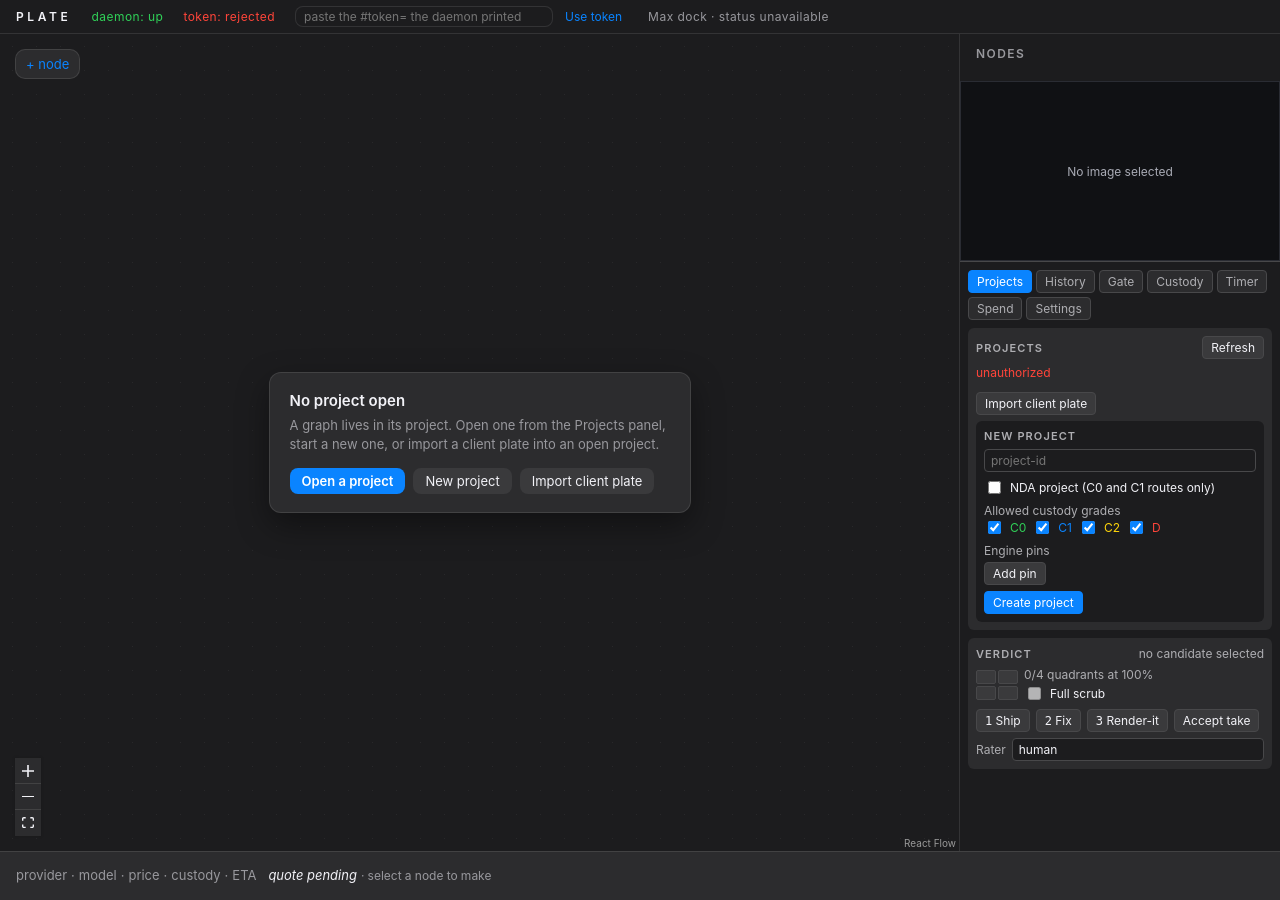
Scenario: the token state › a 401 shows token: rejected; pasting the daemon's line stores the token and the project reopens
Expected: the text with test id "status-token" reads "token: rejected", [183,9,275,24]
Type "PLATE daemon http://127.0.0.1:4610/#token=tok-good" into the password field with test id "token-input" at {"x": 424, "y": 16}, box [295,6,553,27]
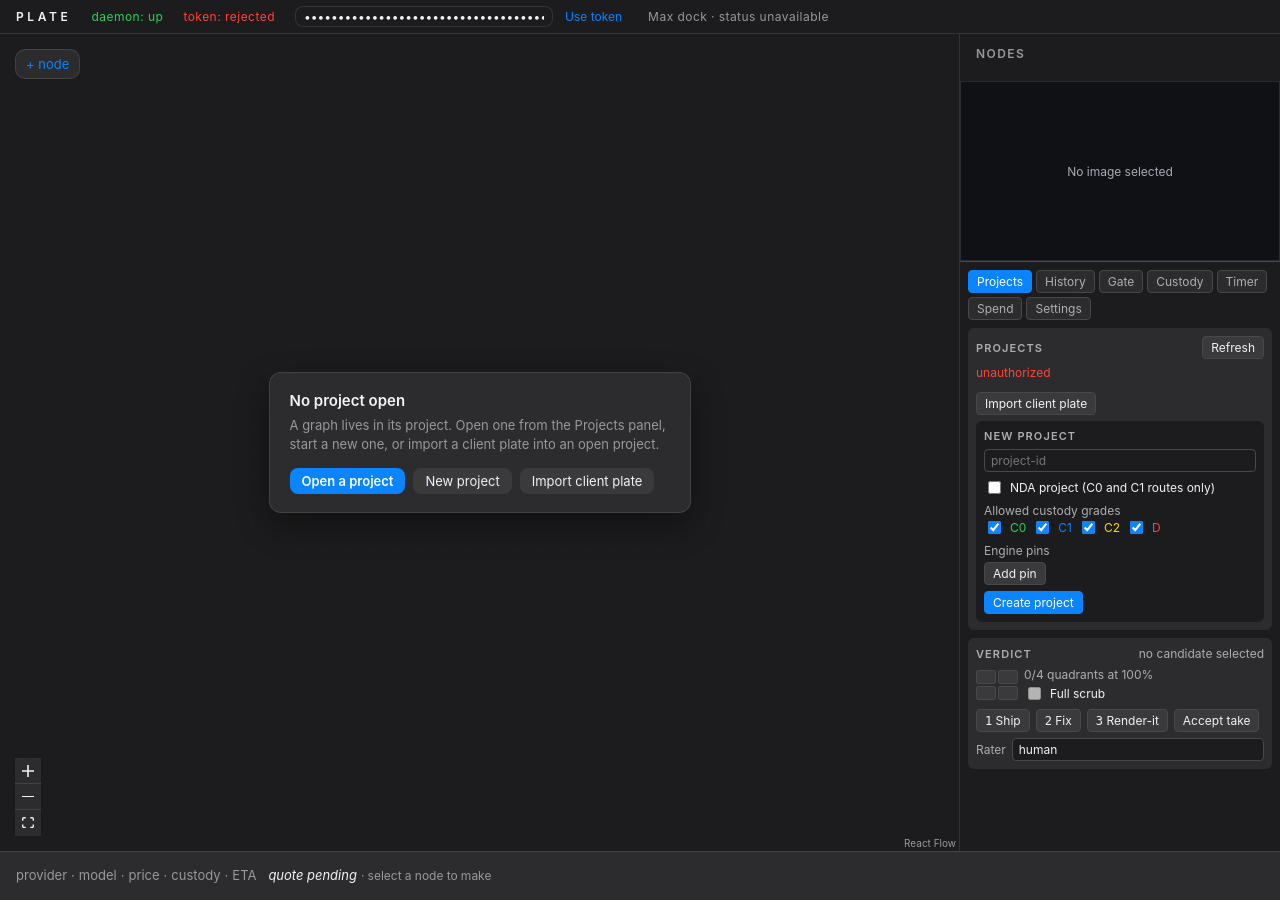
Click the button with test id "token-submit" at {"x": 594, "y": 16}, box [559,6,628,27]
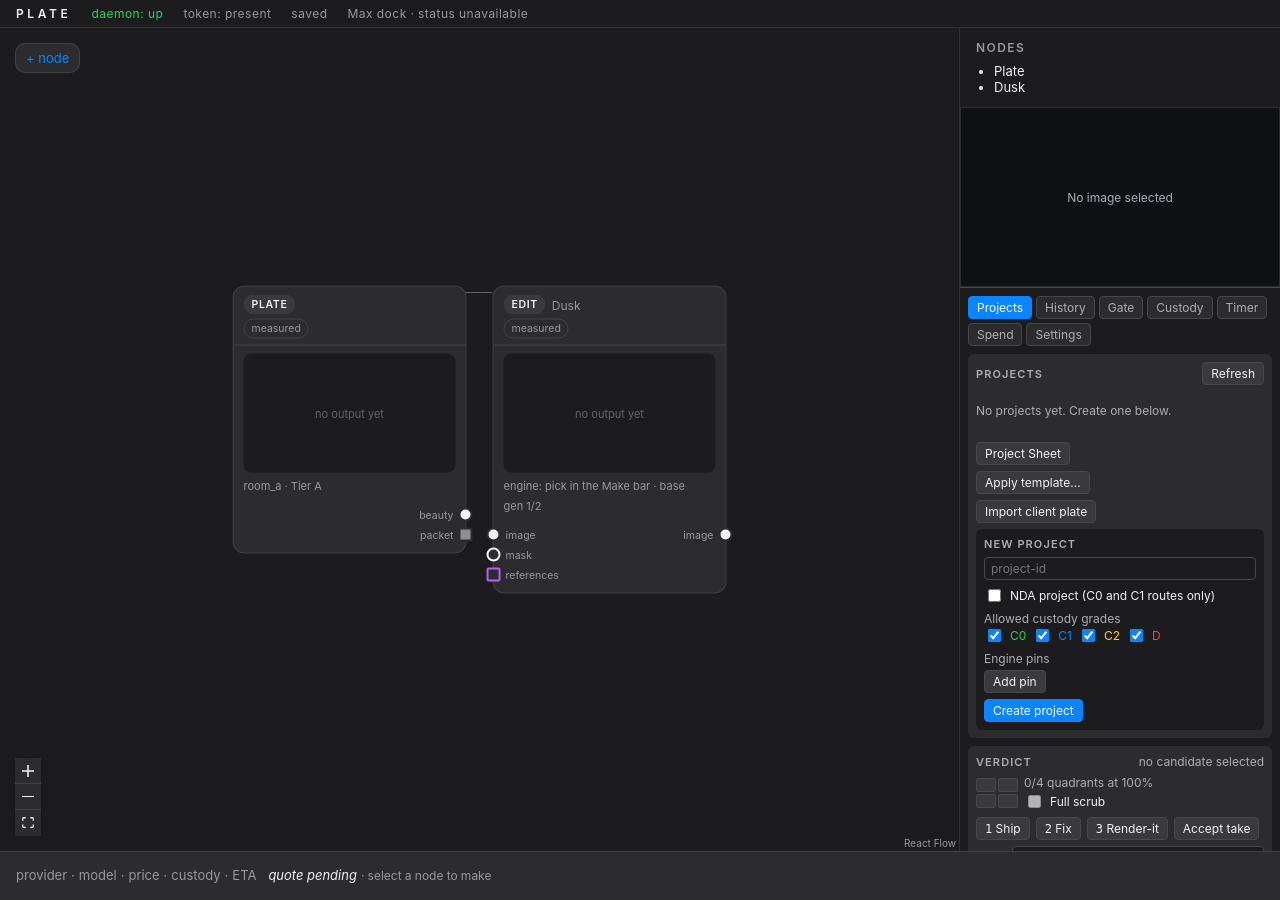
Expected: the text with test id "status-token" reads "token: present", [183,6,271,21]
Expected: the form with test id "token-entry" is gone
